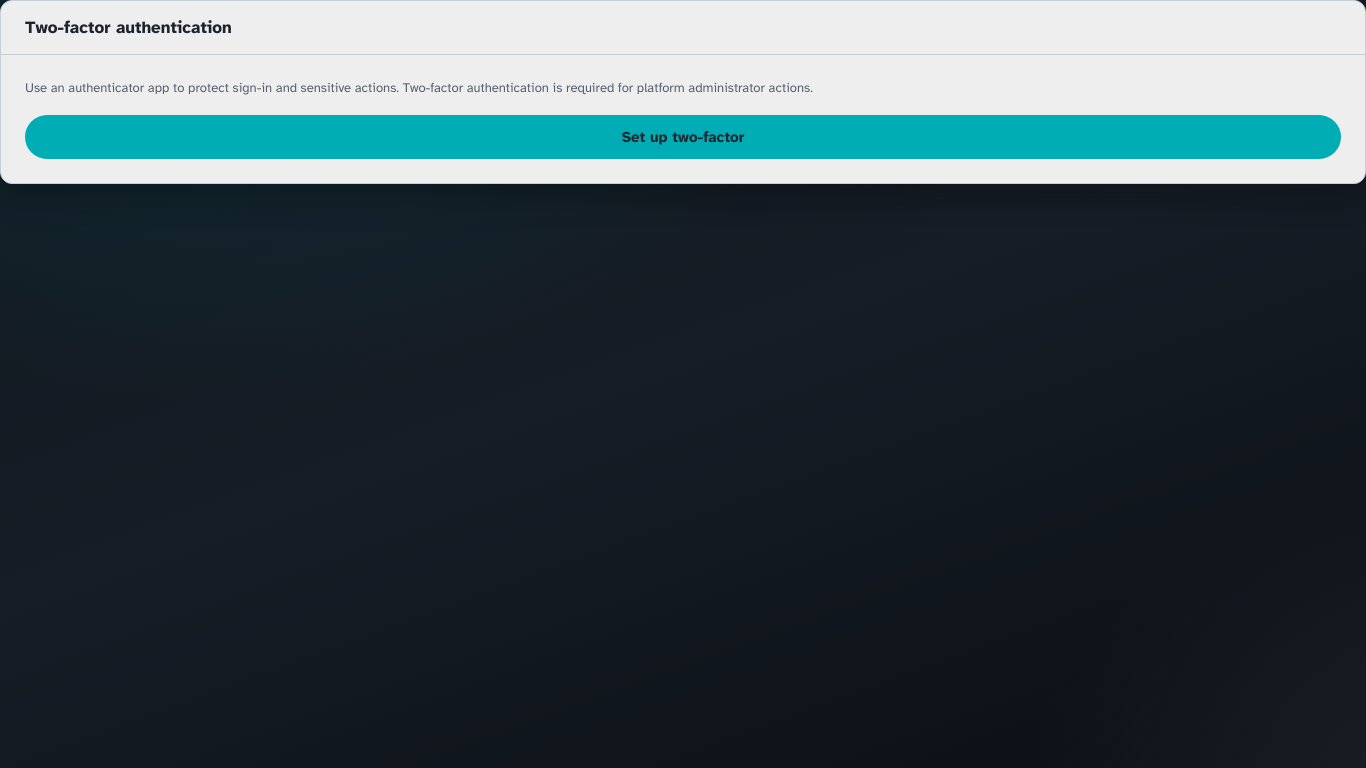
Scenario: MfaEnrollmentCard › shows the setup key and enables MFA after a code is confirmed
The width and height of the screenshot is (1366, 768).
Expected: the text "required for platform administrator actions" is shown, [399,80,813,96]
Click the button "Set up two-factor": click(683, 137) [25,115,1341,159]
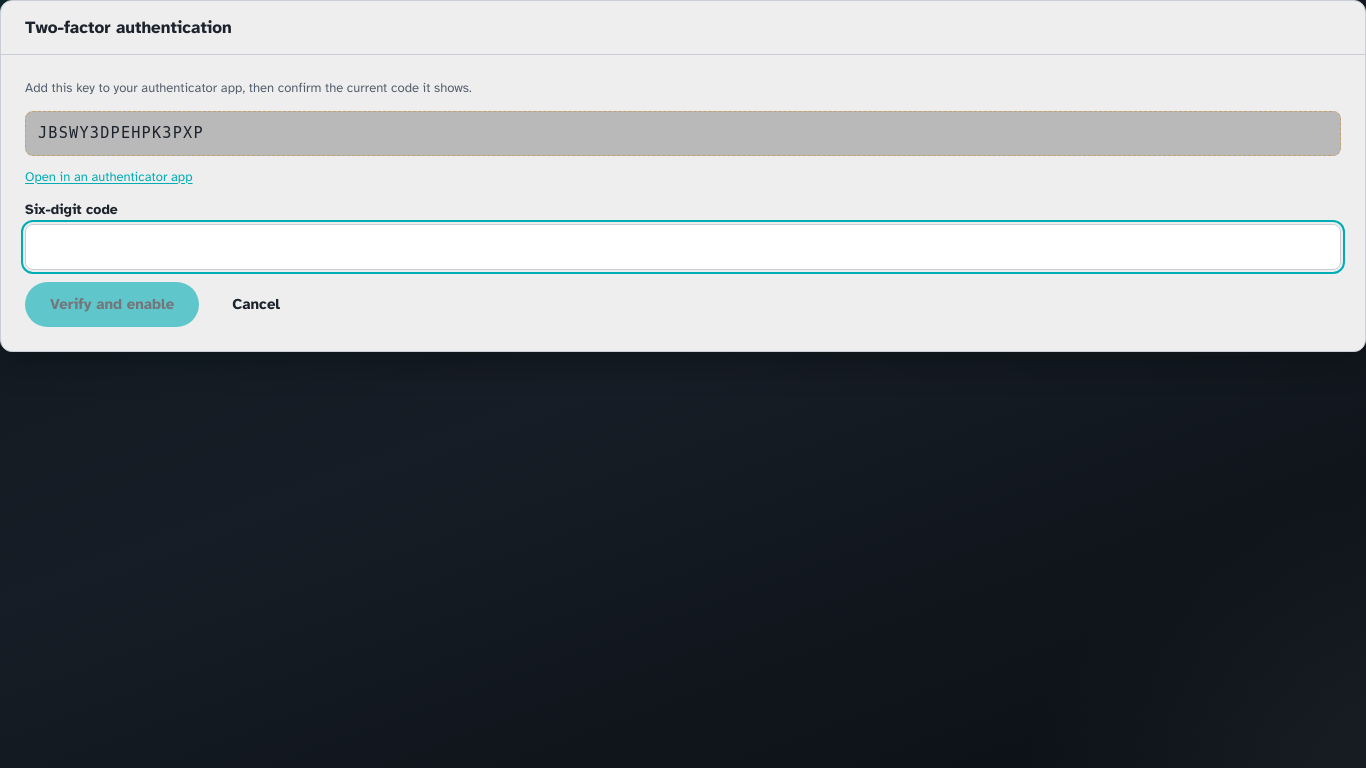
Now the text "JBSWY3DPEHPK3PXP" is shown, box [25,111,1341,156]
In the field labelled "Six-digit code": (683, 247) [25,224,1341,270], type "123456"
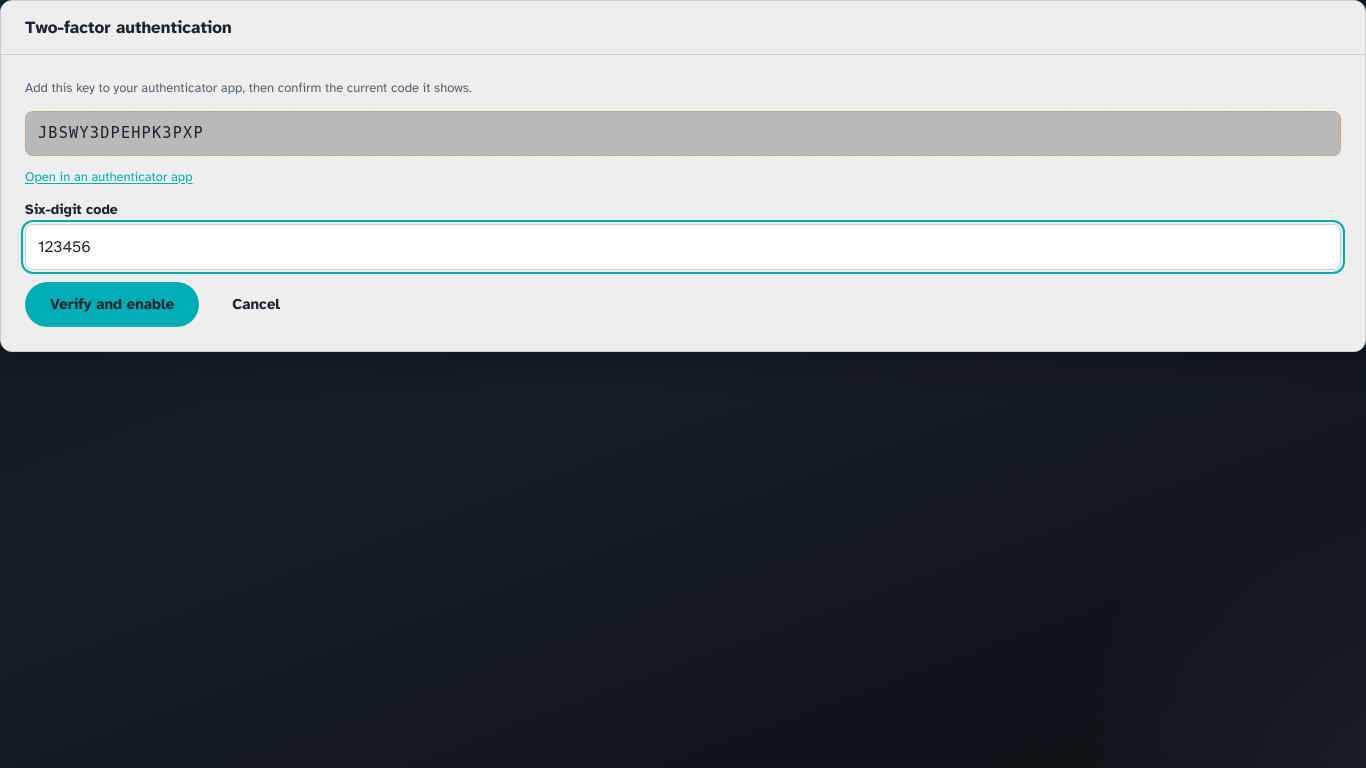
Click the button "Verify and enable": click(112, 304) [25,282,199,326]
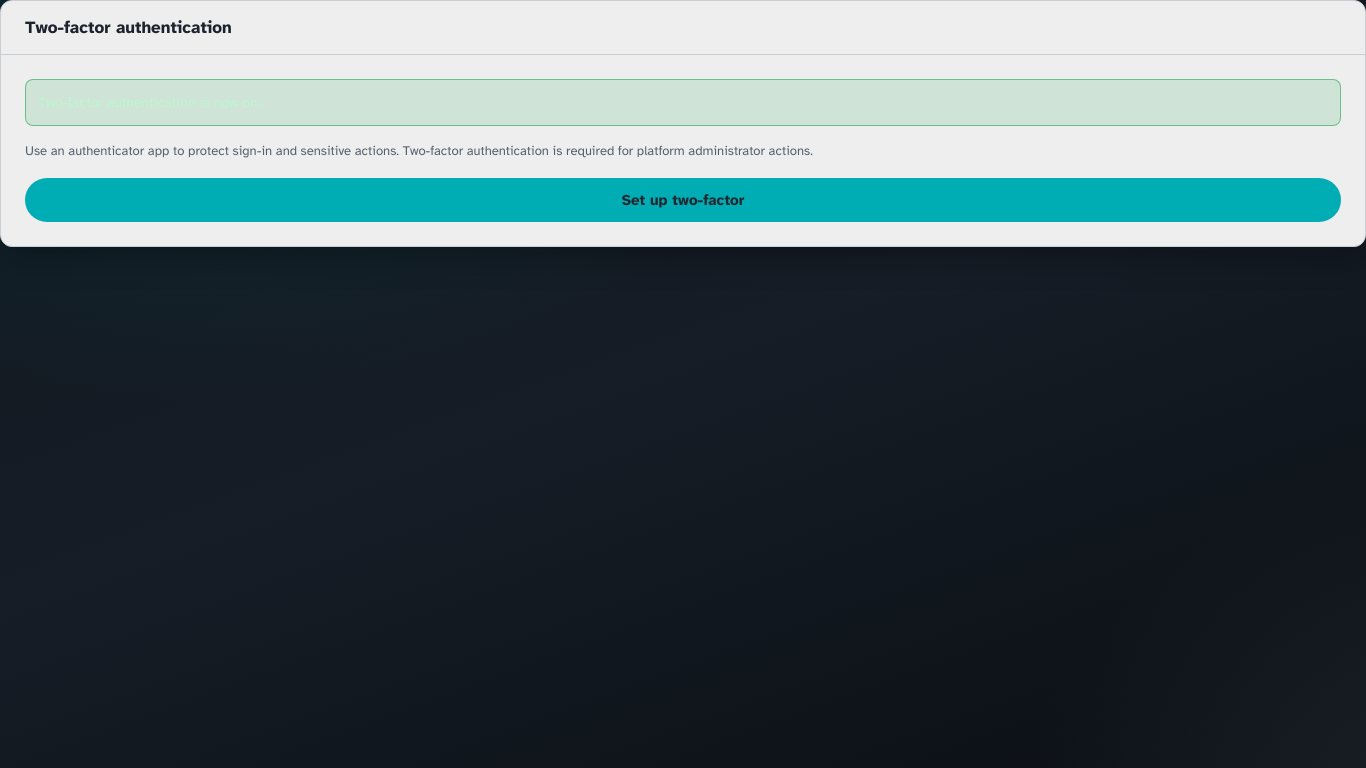
Now the text "Two-factor authentication is now on." is shown, box [25,79,1341,126]
